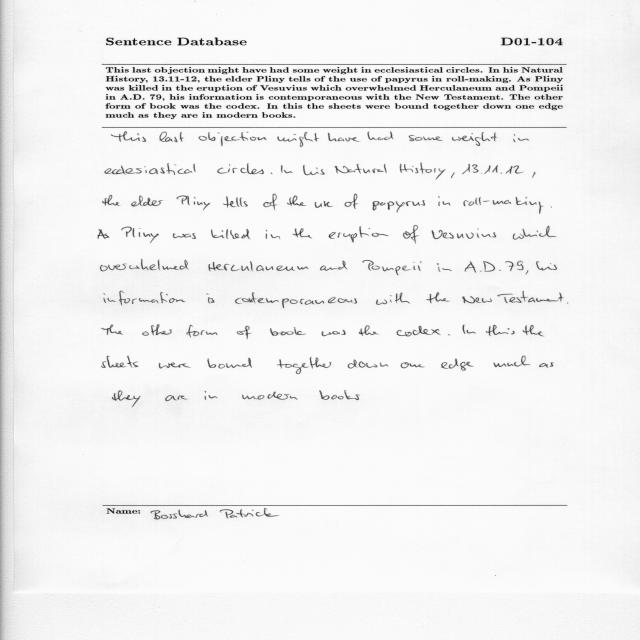word: (235, 292, 357, 308), (463, 197, 544, 214), (104, 291, 186, 305), (101, 259, 189, 272), (105, 163, 196, 175), (209, 262, 309, 272), (329, 227, 389, 243), (199, 132, 267, 146), (277, 357, 332, 374), (363, 260, 422, 275), (497, 291, 564, 303), (400, 163, 446, 180), (432, 228, 497, 239), (372, 200, 425, 213), (277, 132, 319, 147), (452, 132, 497, 146), (121, 227, 159, 243), (513, 226, 556, 240), (335, 164, 387, 174), (217, 163, 264, 174), (176, 196, 210, 211), (113, 391, 141, 408), (208, 358, 253, 368), (242, 392, 298, 400), (102, 356, 139, 368), (376, 292, 410, 305), (397, 326, 441, 336), (465, 261, 501, 273), (493, 356, 530, 367), (187, 325, 218, 338), (441, 359, 474, 371), (211, 229, 250, 239), (111, 131, 146, 142), (348, 360, 389, 369), (484, 166, 524, 175), (131, 196, 163, 207), (142, 325, 172, 336), (270, 327, 306, 336), (486, 325, 515, 336), (223, 196, 248, 208), (328, 133, 360, 142), (403, 226, 419, 244), (159, 132, 184, 143), (320, 261, 347, 271), (427, 293, 450, 304), (319, 390, 344, 400), (263, 194, 278, 210), (523, 325, 544, 336), (303, 165, 325, 175), (359, 325, 379, 336), (536, 261, 557, 271), (462, 297, 492, 304), (102, 325, 123, 335), (287, 195, 306, 206), (368, 132, 394, 140), (409, 135, 443, 141), (345, 194, 358, 209), (159, 363, 191, 369), (293, 229, 312, 239), (505, 261, 524, 271), (103, 195, 120, 206), (237, 326, 251, 339), (462, 164, 479, 174), (344, 391, 360, 401), (321, 330, 346, 336), (401, 363, 425, 369), (266, 230, 280, 240), (462, 325, 476, 335), (173, 233, 196, 239), (165, 395, 188, 401), (437, 263, 452, 272), (513, 134, 529, 142), (315, 201, 333, 208), (438, 196, 450, 206), (205, 391, 218, 400), (98, 229, 109, 239), (206, 293, 215, 304), (281, 165, 293, 173), (539, 362, 554, 368), (451, 173, 455, 179), (532, 172, 536, 178), (526, 270, 529, 275), (271, 173, 273, 175), (448, 334, 450, 335), (481, 173, 482, 174), (551, 207, 552, 208), (567, 303, 568, 304)
